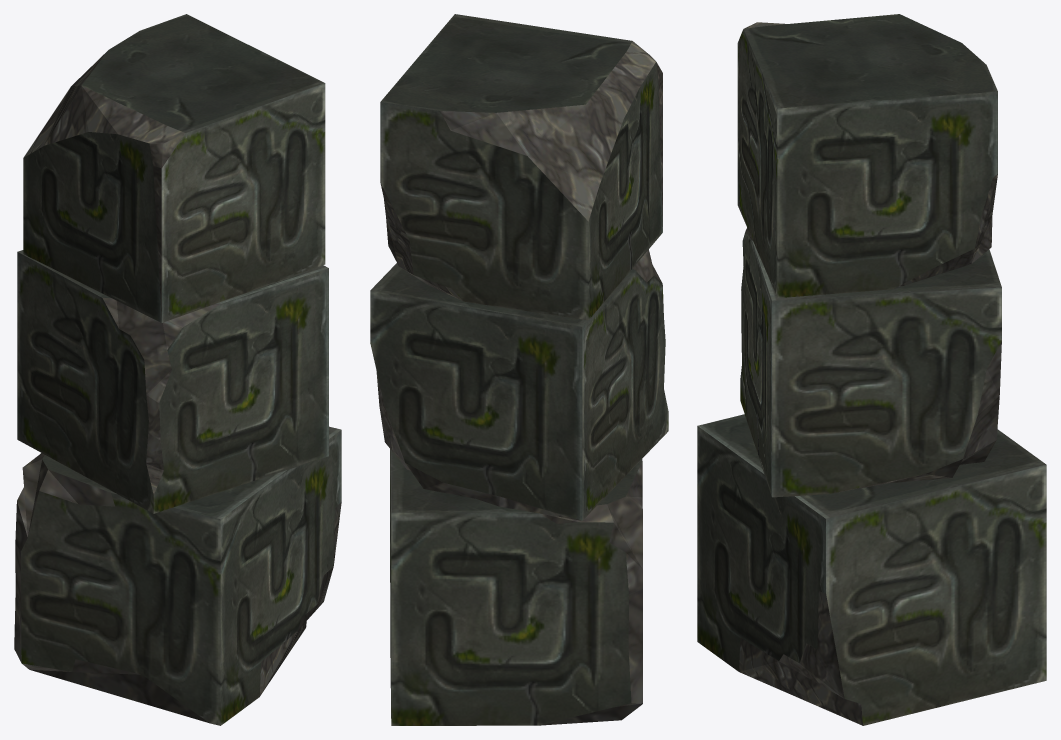
Rendered from F_tuten002.fbx.
3 renders of one model, left to right at view 1: azimuth 30°, elevation 25°; view 2: azimuth 150°, elevation 25°; view 3: azimuth 270°, elevation 25°, orthographic. The views are drawn at different scales.
Parts seen in each view (by area): view 1: F_tuten002; view 2: F_tuten002; view 3: F_tuten002.
Part boxes in pixels (x1=…): F_tuten002: x1=14, y1=14, x2=341, y2=725; F_tuten002: x1=370, y1=14, x2=668, y2=725; F_tuten002: x1=697, y1=14, x2=1046, y2=725.
Size of the model in its own units: 93.11 by 182 by 95.15.
